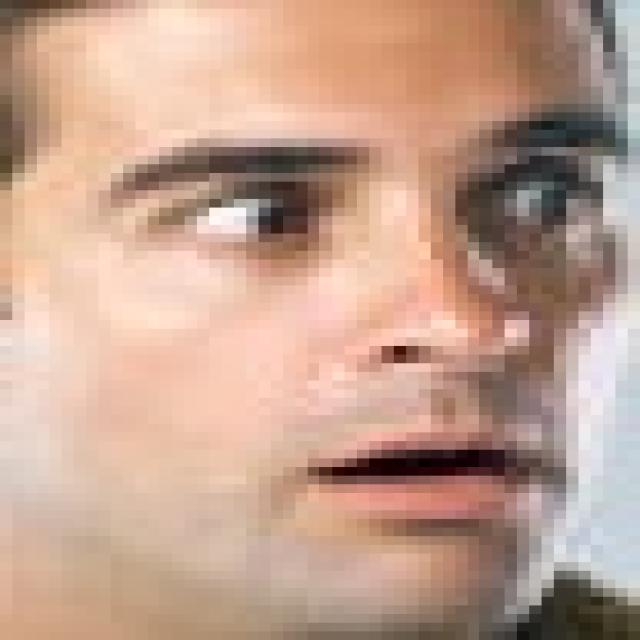Anxiety: (12, 0, 628, 631)
